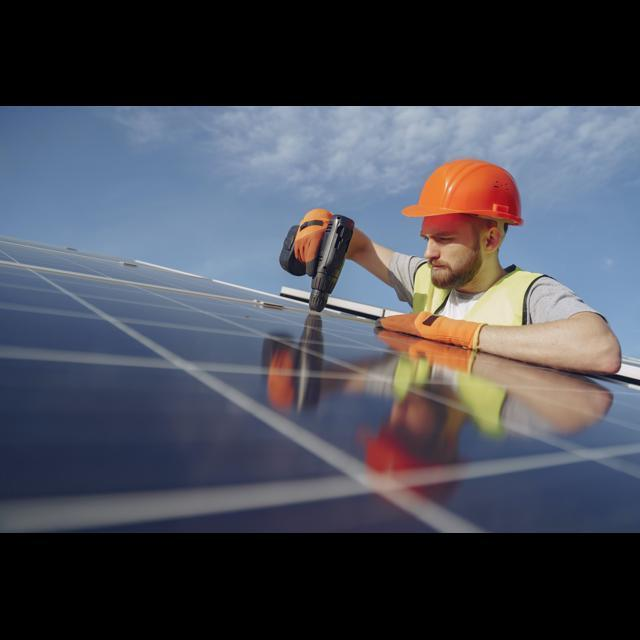Capacete: (402, 159, 522, 224)
Colete: (464, 265, 543, 325)
Pessoa: (347, 159, 620, 373)
